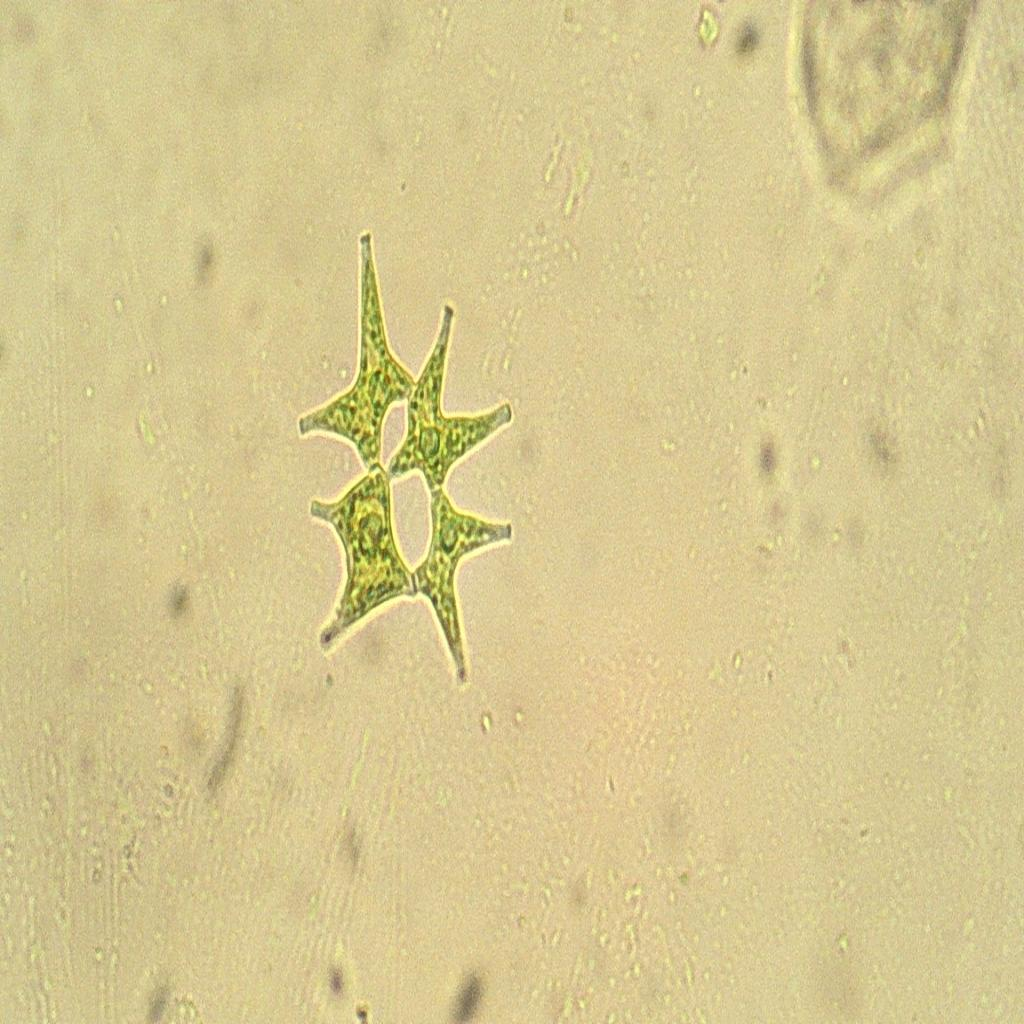Pediastrum_75FO: (285, 214, 522, 707)
